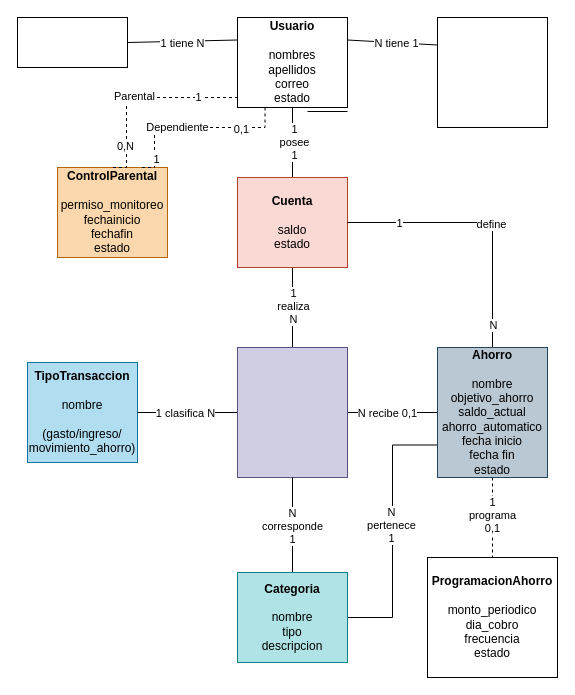
This 575x695 diagram has some shape labels left out. Here are the shapes that lost their labels. From the top down, the box of each, then its label:
(16, 16, 128, 68): Rol nombre
(436, 16, 548, 128): TipoUsuario nombre (independiente/ dependiente/ parental)
(236, 346, 348, 478): Transaccion monto fecha descripcion referencia estado
